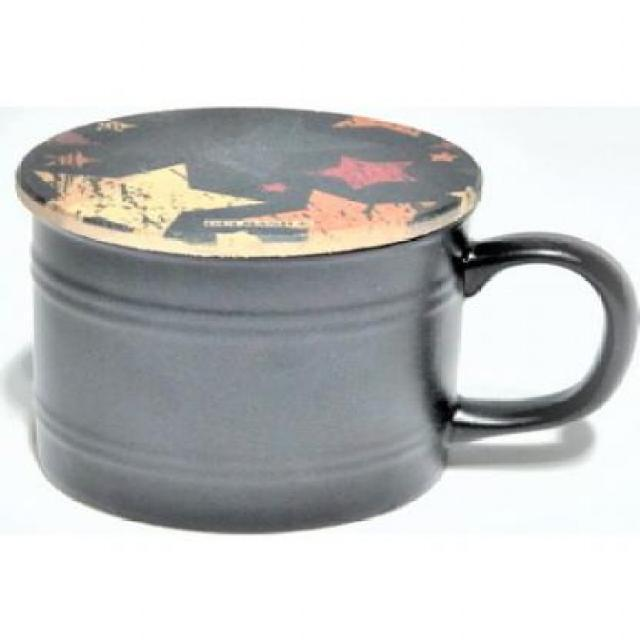taza: (12, 104, 640, 539)
